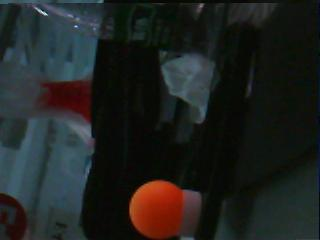oball: (129, 179, 182, 239)
